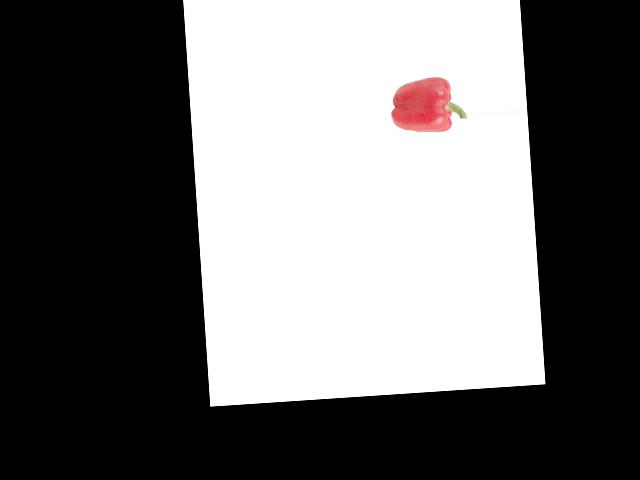bell_pepper: (388, 67, 467, 137)
